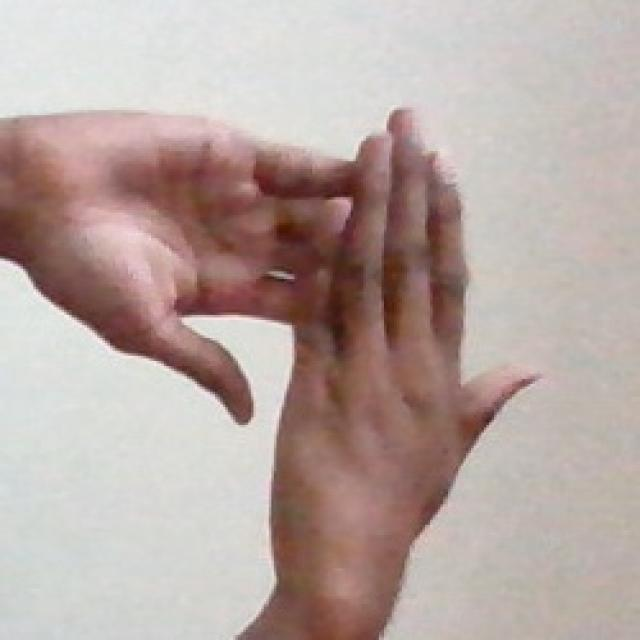Alphabet-H: (35, 76, 539, 578)
